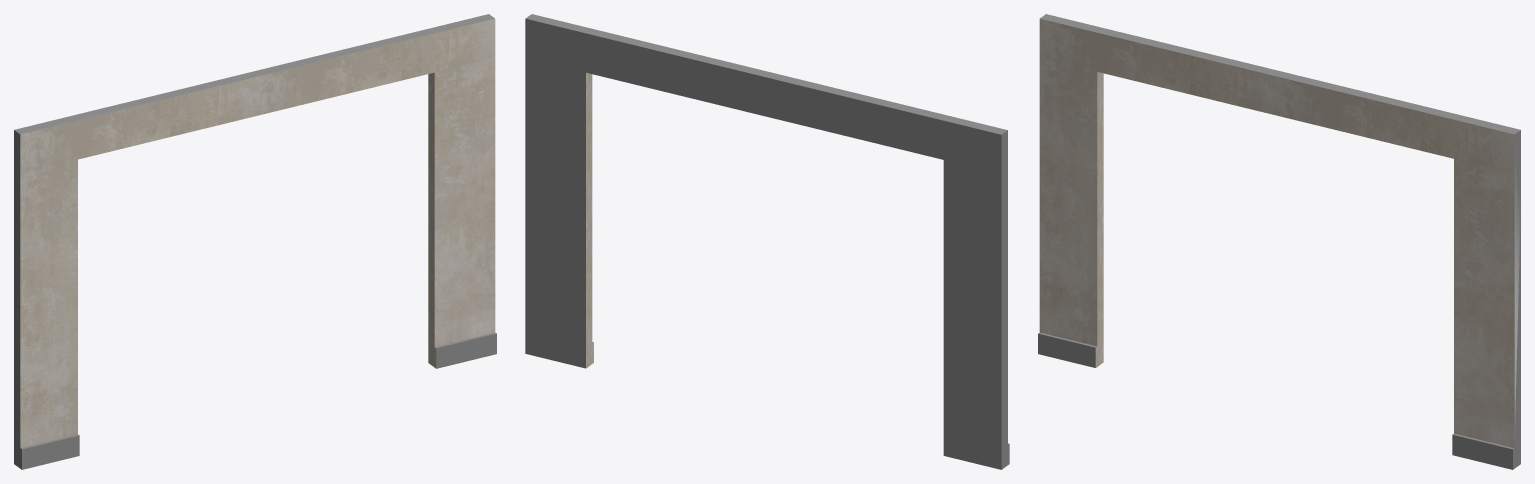
Rendered from Wall 6.FBX.
3 views of the same model, side by side, from view 1: azimuth 30°, elevation 25°; view 2: azimuth 150°, elevation 25°; view 3: azimuth 330°, elevation 25° (orthographic).
Parts seen in each view (by area): view 1: Wall 6; view 2: Wall 6; view 3: Wall 6.
Part boxes in pixels (x1,y1,x2,y2): Wall 6: (14, 14, 496, 469); Wall 6: (525, 14, 1009, 469); Wall 6: (1038, 14, 1520, 469).
Size of the model in its own units: 388 by 261 by 11.22.
Materials: 2 (1 with a texture image).
